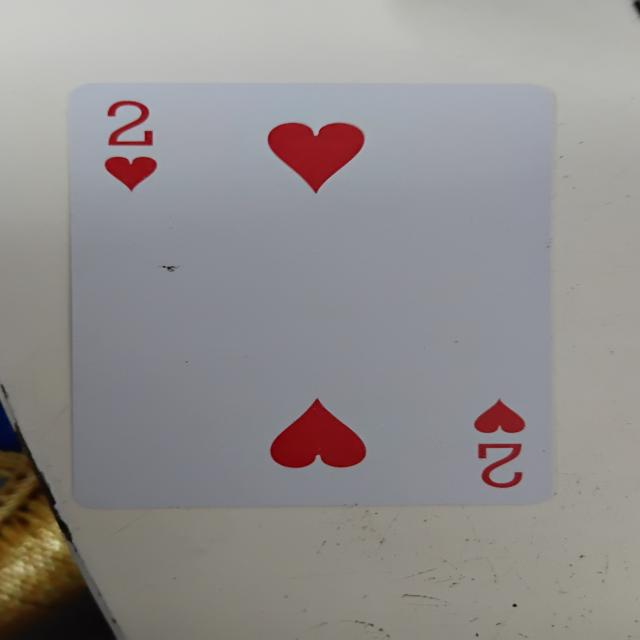2H: (67, 88, 557, 502)
